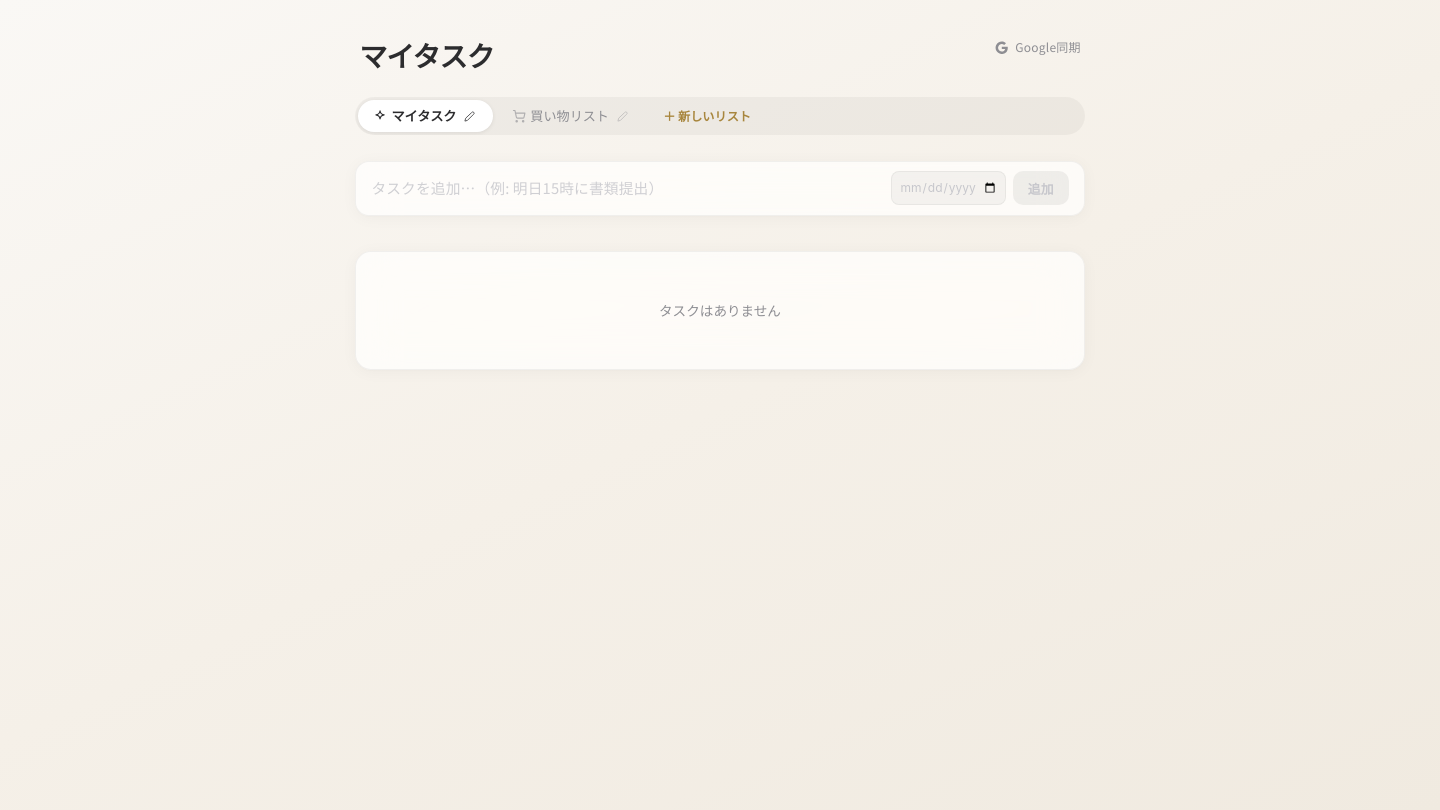
Test case: Tasks コンポーネント › 「＋ 新しいリスト」から新規リストを作成できる（Sliding Pill と文字数制限15文字が適用される）
This screenshot has width=1440, height=810.
Expected: the element with test id "tab-sliding-pill" is shown, [358, 100, 493, 132]
Click the button with test id "add-list-tab-btn". click: (707, 116)
box: [650, 101, 764, 132]
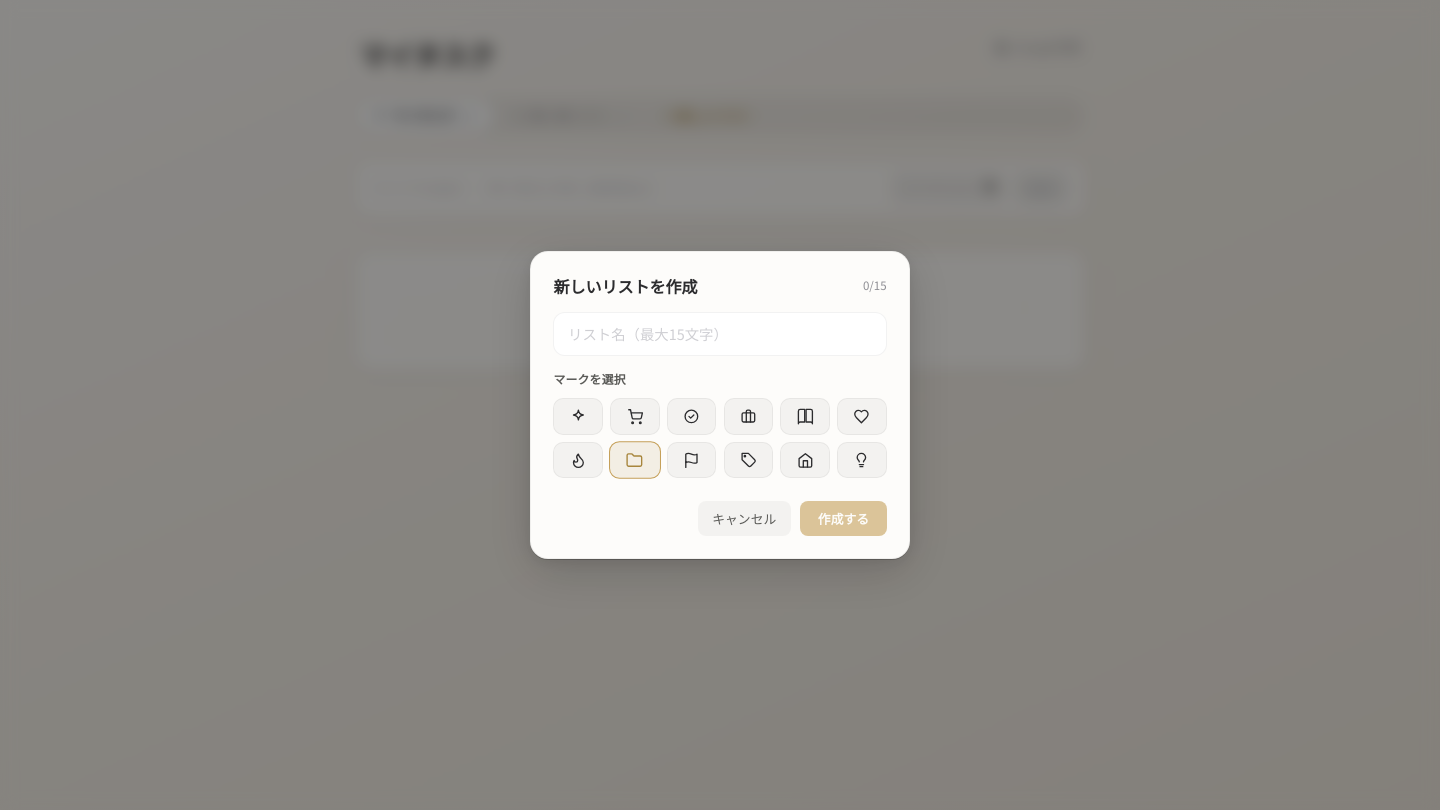
Now the text "0/15" is shown, box [863, 277, 887, 295]
Type "読書リスト" into the field with placeholder "リスト名（最大15文字）". click: (720, 334)
box: [553, 312, 887, 356]
Then press Enter
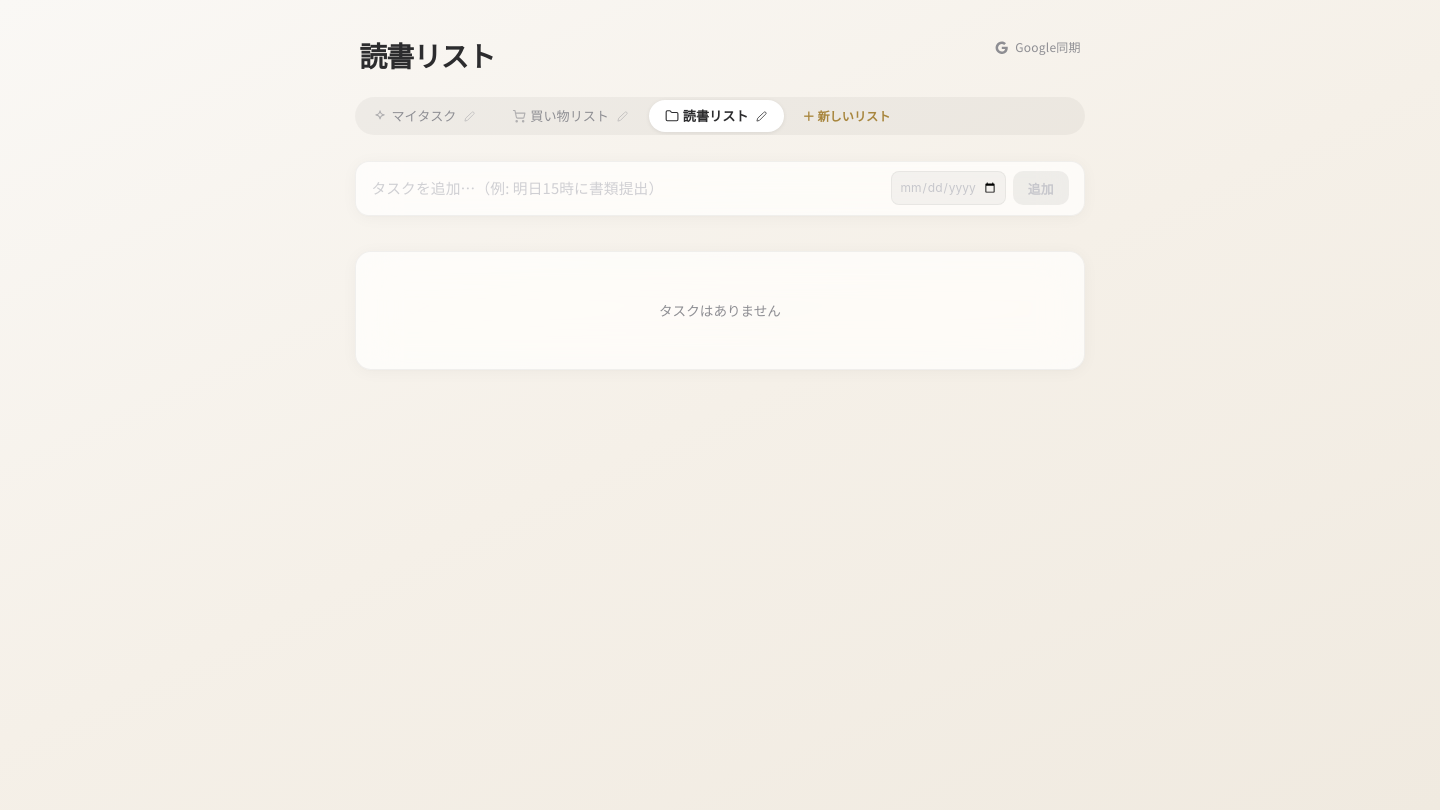
Now the heading "読書リスト" is shown, box [359, 38, 495, 73]
